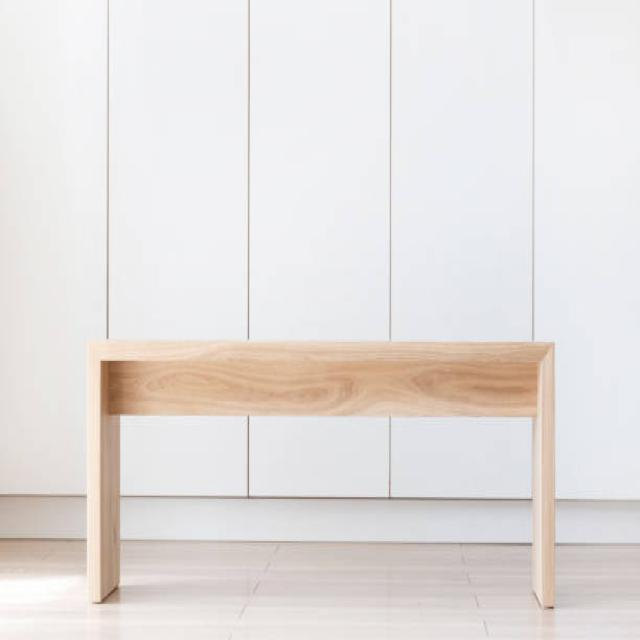table: (85, 337, 556, 609)
